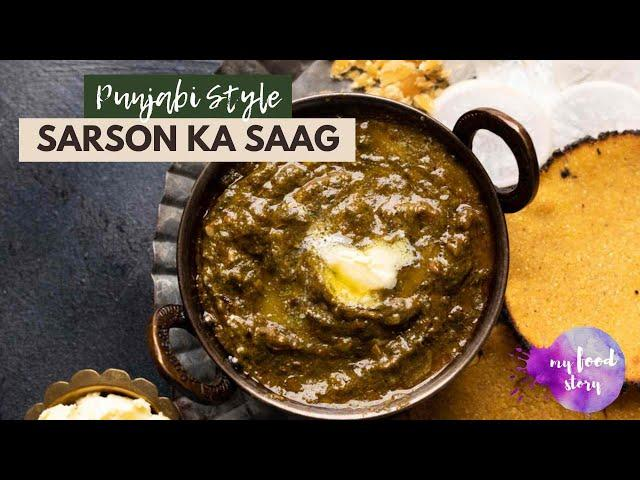saag: (199, 166, 505, 405)
